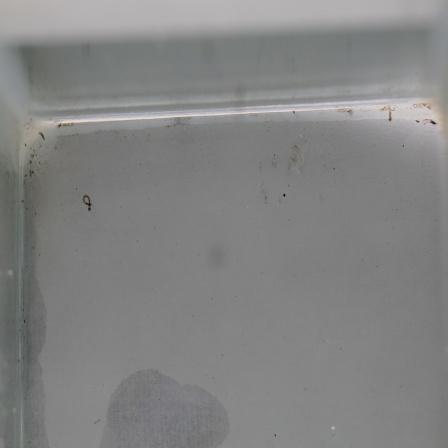Jentik-Nyamuk: (77, 190, 97, 216)
